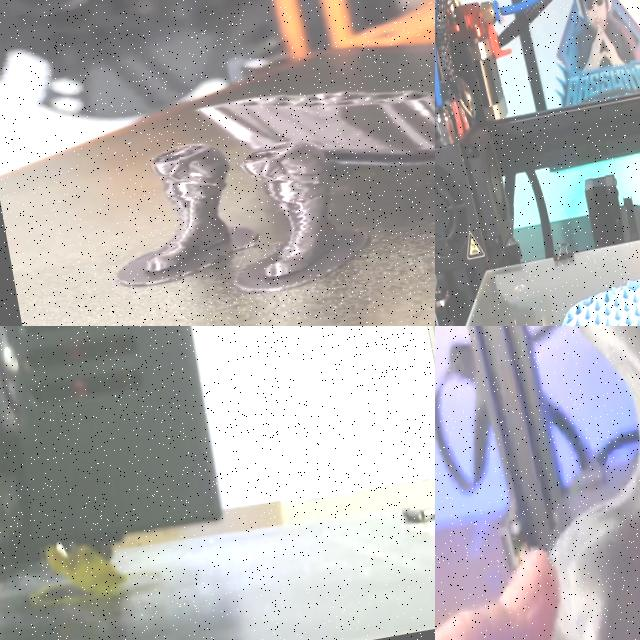spaghetti: (45, 542, 125, 593)
